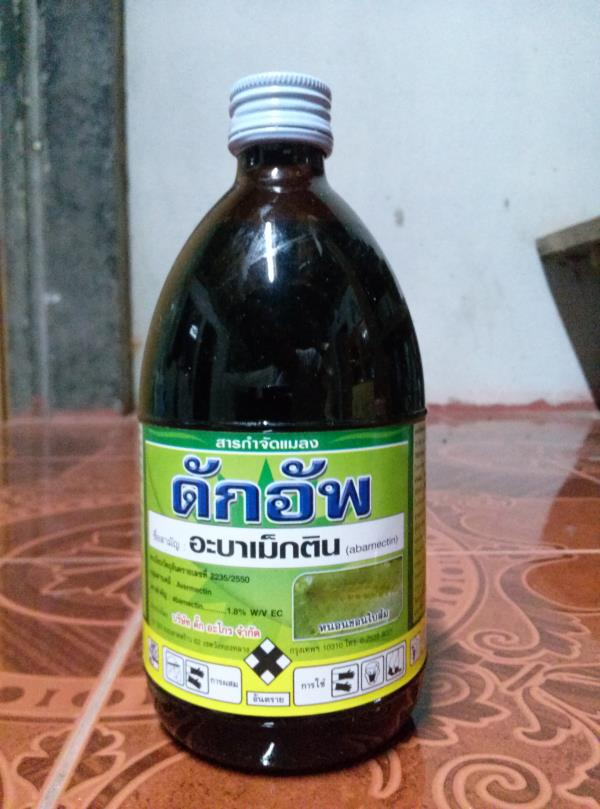Insecticide: (115, 59, 451, 787)
